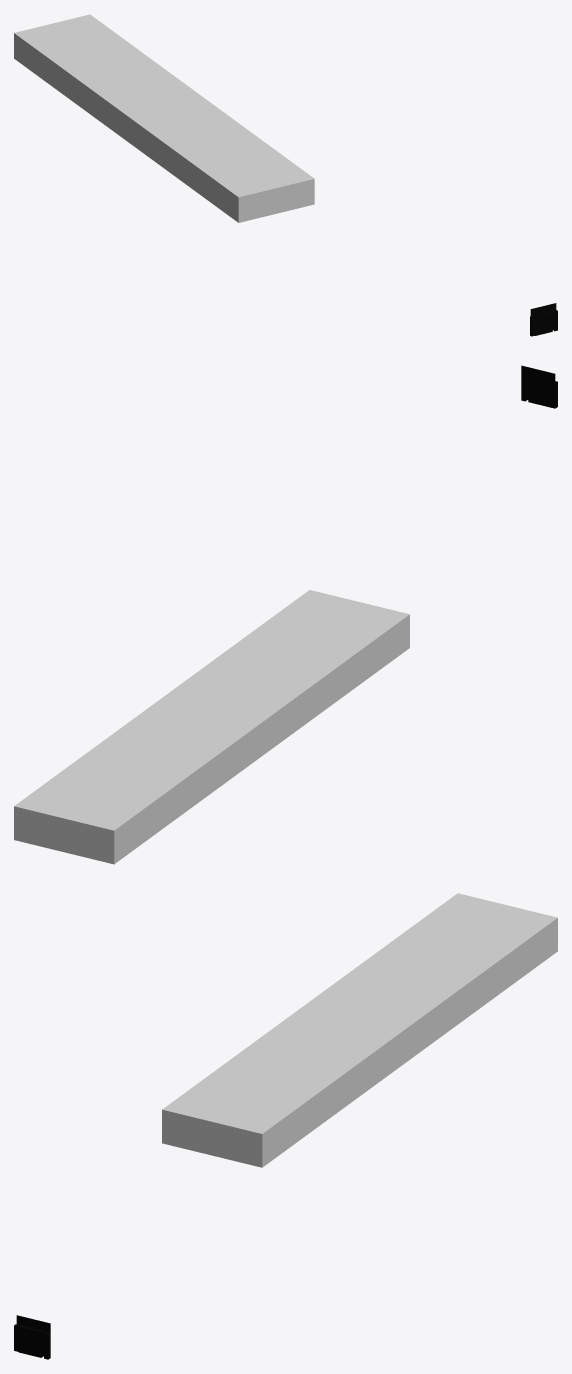
3 views of the same model, one above another, from view 1: azimuth 30°, elevation 25°; view 2: azimuth 150°, elevation 25°; view 3: azimuth 330°, elevation 25° (orthographic). The views are drawn at different scales.
Parts seen in each view (by area): view 1: Box001, SFT_Building_Attachable_Roof_Interior_Support__13_; view 2: Box001, SFT_Building_Attachable_Roof_Interior_Support__13_; view 3: Box001, SFT_Building_Attachable_Roof_Interior_Support__13_.
Part boxes in pixels (left/top/right/bottom): Box001: left=14, top=14, right=314, bottom=222; SFT_Building_Attachable_Roof_Interior_Support__13_: left=530, top=303, right=557, bottom=336; Box001: left=14, top=590, right=409, bottom=864; SFT_Building_Attachable_Roof_Interior_Support__13_: left=521, top=365, right=557, bottom=408; Box001: left=162, top=893, right=557, bottom=1167; SFT_Building_Attachable_Roof_Interior_Support__13_: left=14, top=1315, right=50, bottom=1359.
Size of the model in its own units: 5061 by 1614 by 32116.
